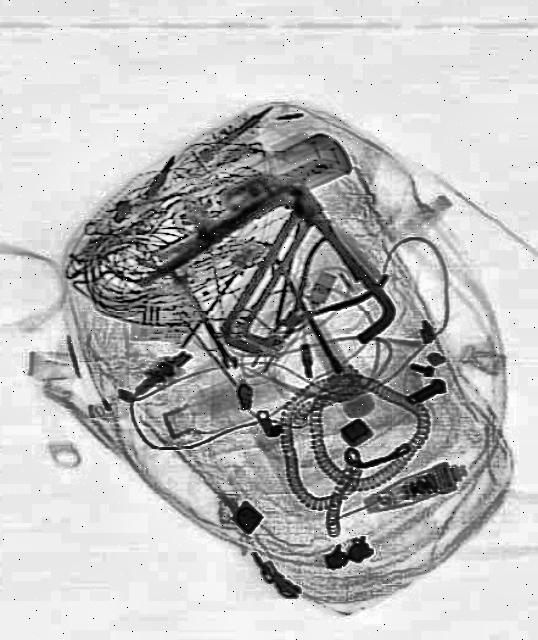Pliers: (254, 224, 392, 372)
Wrench: (175, 282, 242, 376)
